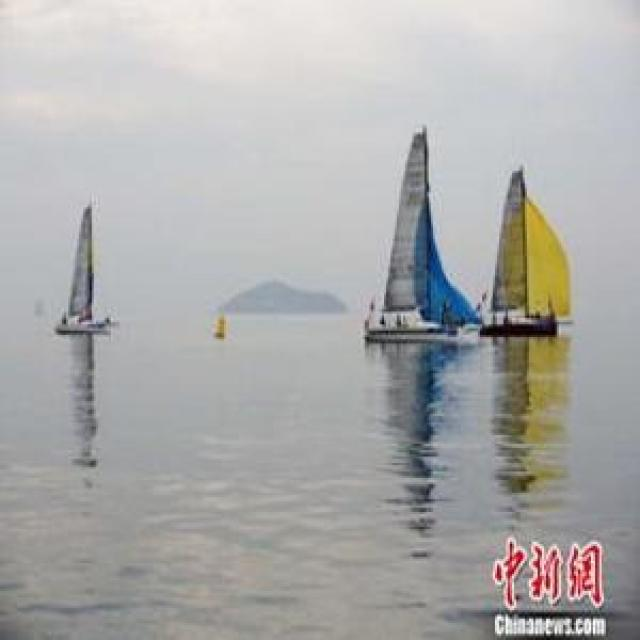sailboat: (362, 121, 476, 336), (479, 166, 578, 336), (52, 200, 120, 330)
